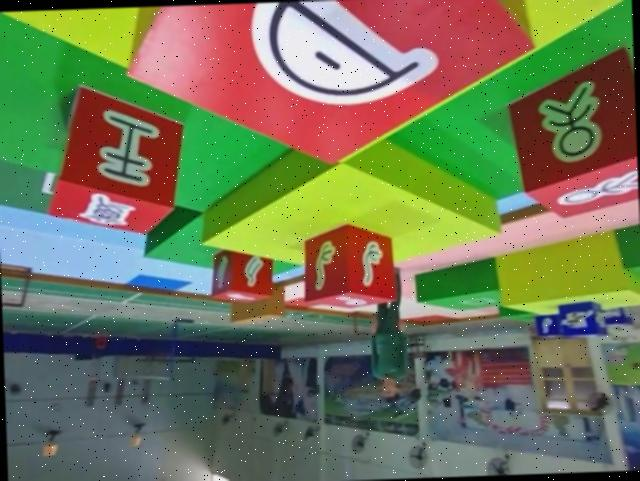R2 Fake: (44, 81, 189, 240)
R2 Real: (124, 0, 540, 172), (505, 49, 640, 221), (305, 224, 399, 309), (209, 247, 274, 303)
